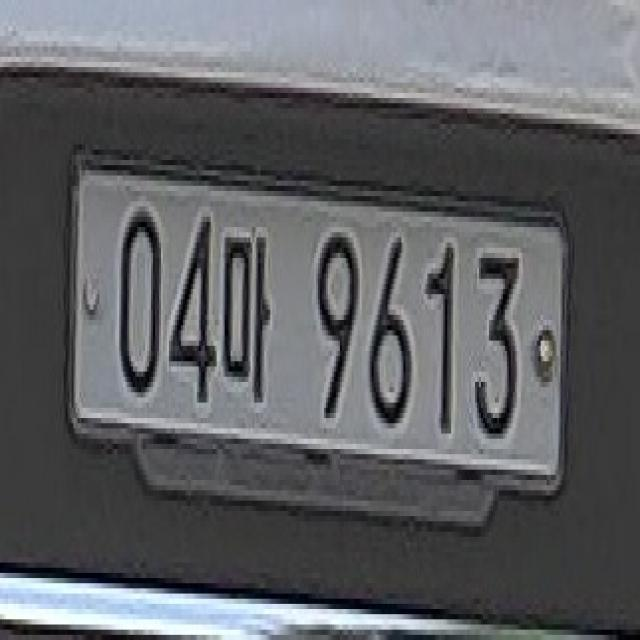0: (114, 192, 162, 420)
1: (428, 221, 469, 448)
3: (473, 235, 532, 462)
4: (164, 210, 224, 402)
6: (366, 220, 418, 450)
9: (306, 209, 364, 442)
license_plate: (46, 108, 594, 572)
ma: (224, 217, 274, 424)
